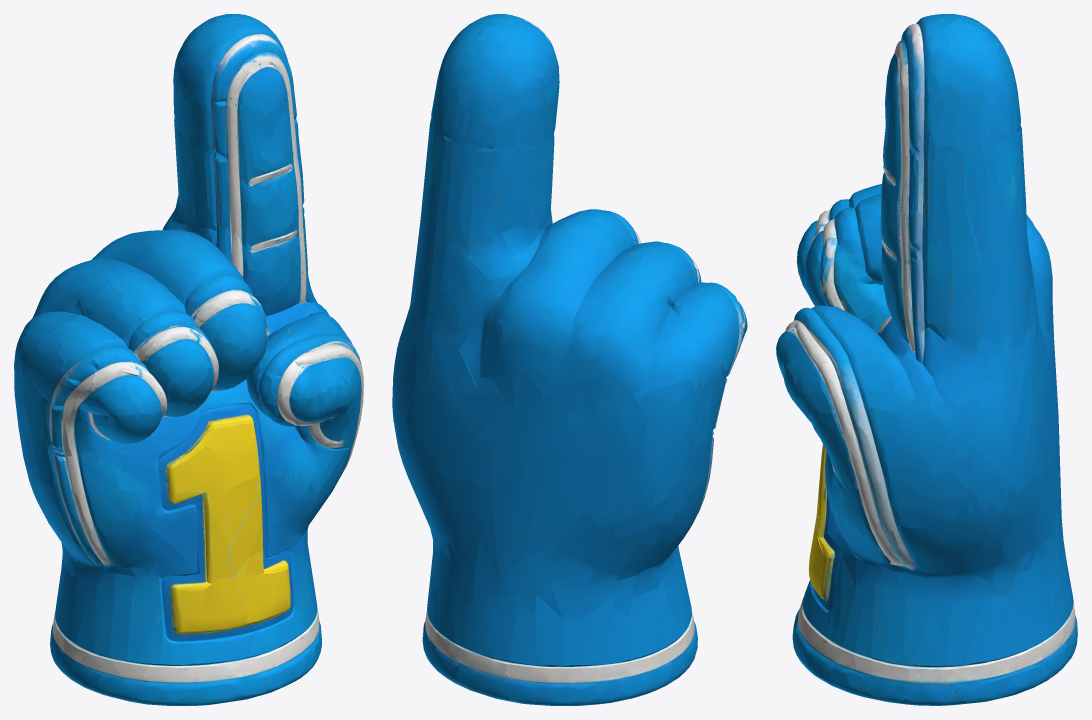
File: foam_finger.glb
3 views of the same model, side by side, from view 1: azimuth 30°, elevation 25°; view 2: azimuth 150°, elevation 25°; view 3: azimuth 270°, elevation 25° (orthographic). The views are drawn at different scales.
Visible parts, largest first — view 1: Mesh_0; view 2: Mesh_0; view 3: Mesh_0.
Part boxes in pixels (x1,y1,x2,y2): Mesh_0: (14,14,363,705); Mesh_0: (392,14,747,705); Mesh_0: (776,14,1077,705).
Bounding box in the file's own units: 0.5263 × 1 × 0.4167.
Materials: 1 (1 with a texture image).
